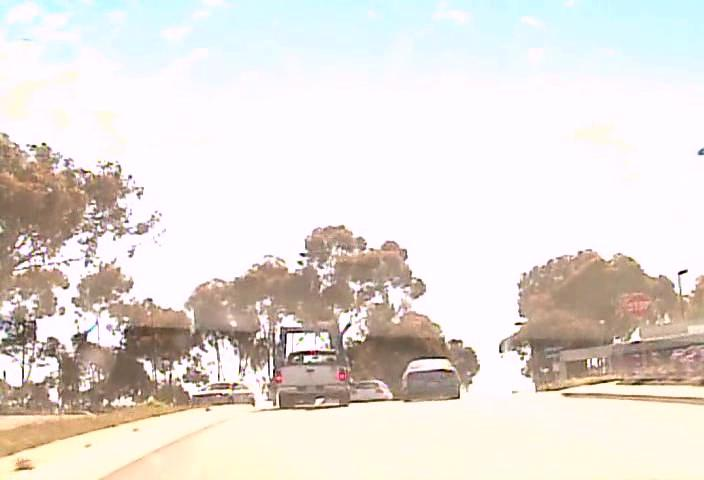stop: (625, 292, 652, 318)
